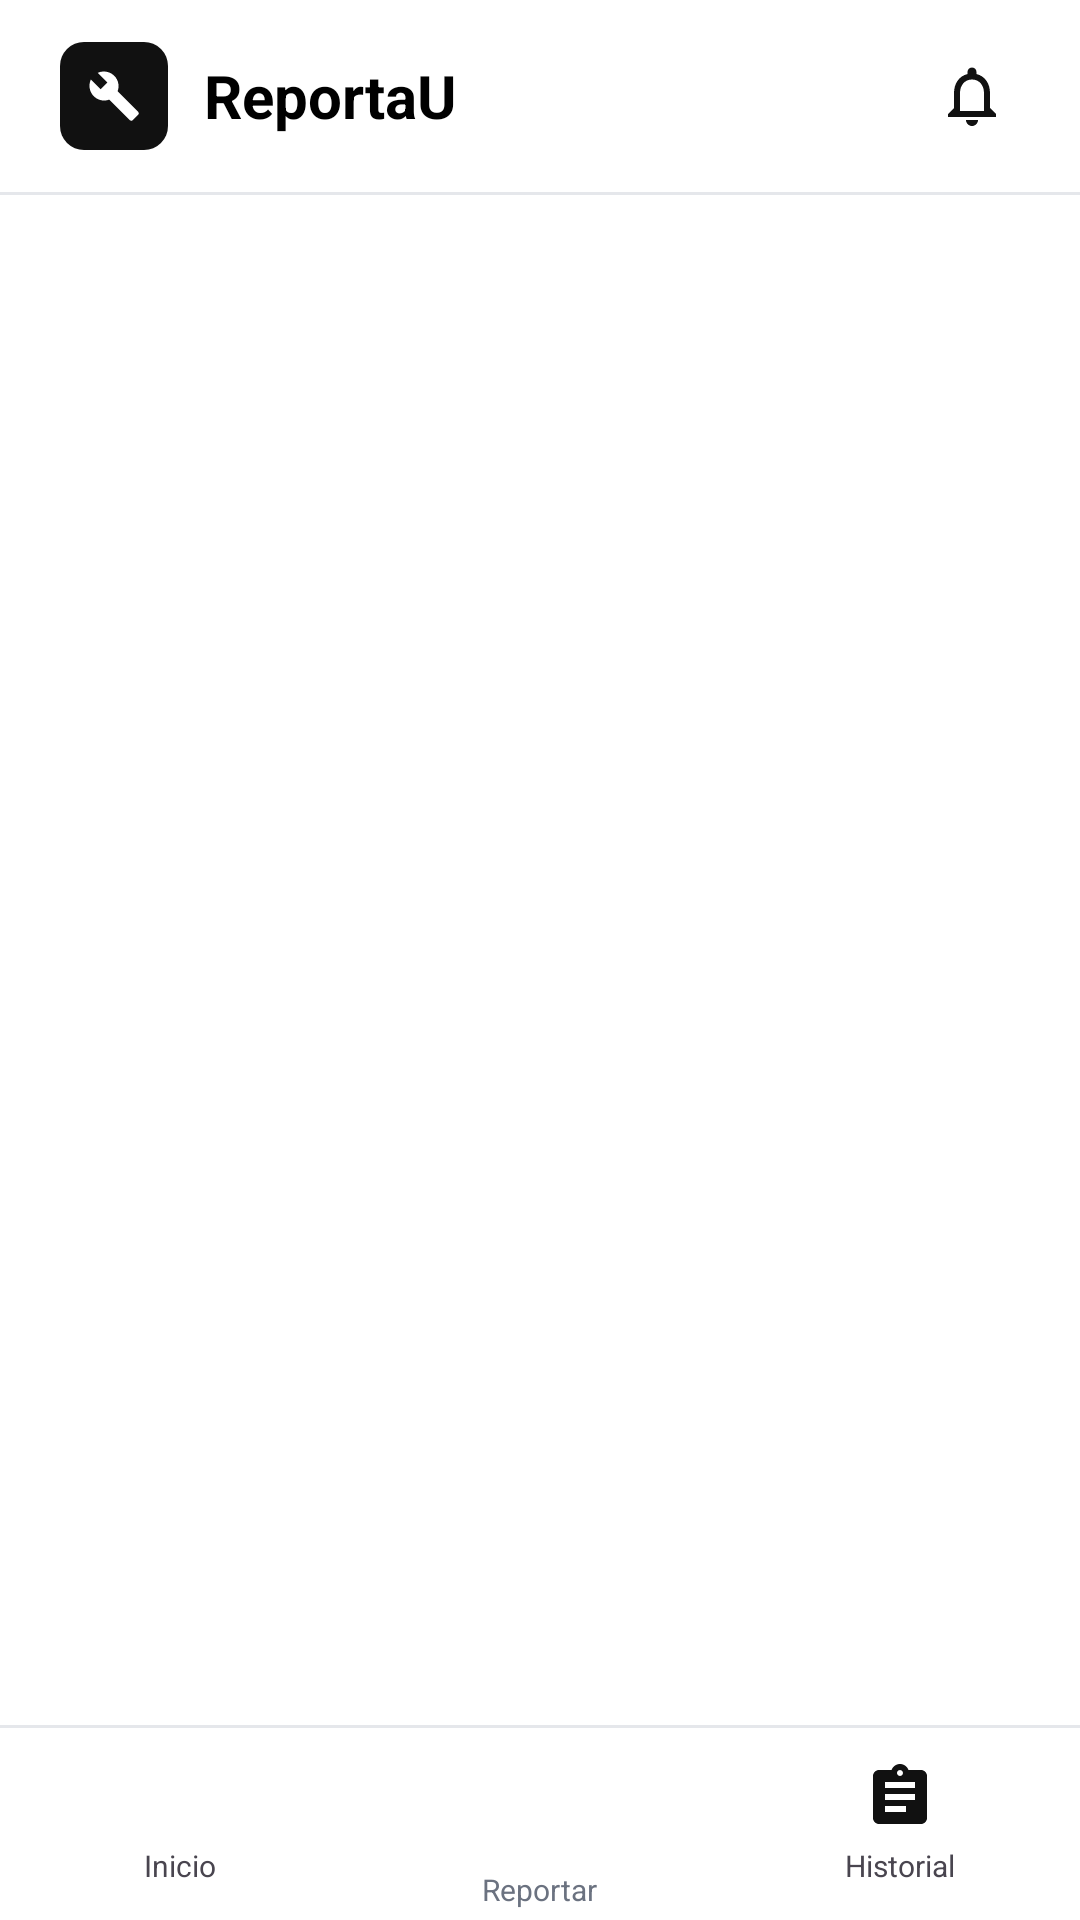

Where icons sit on this 1080x1920 app screen, as (x1, y1, x2, y2):
list: (873, 1764, 927, 1824)
Notificaciones: (948, 67, 996, 126)
wrench: (60, 42, 168, 150)
